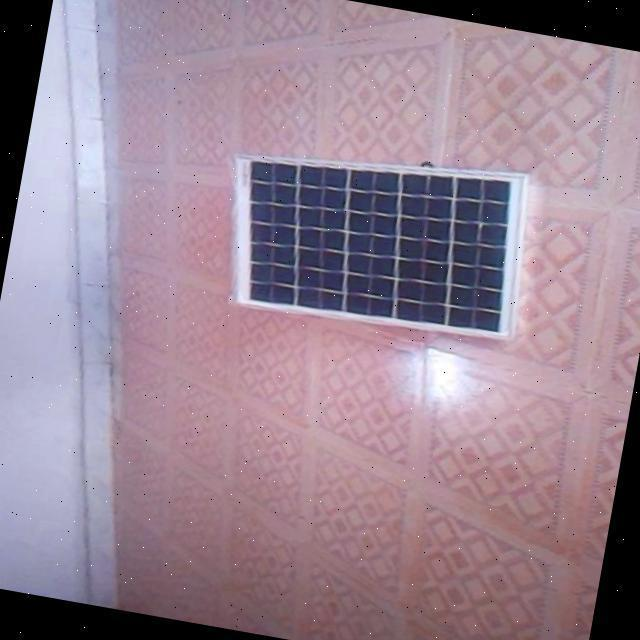Normal Solar Panel: (212, 124, 534, 349)
